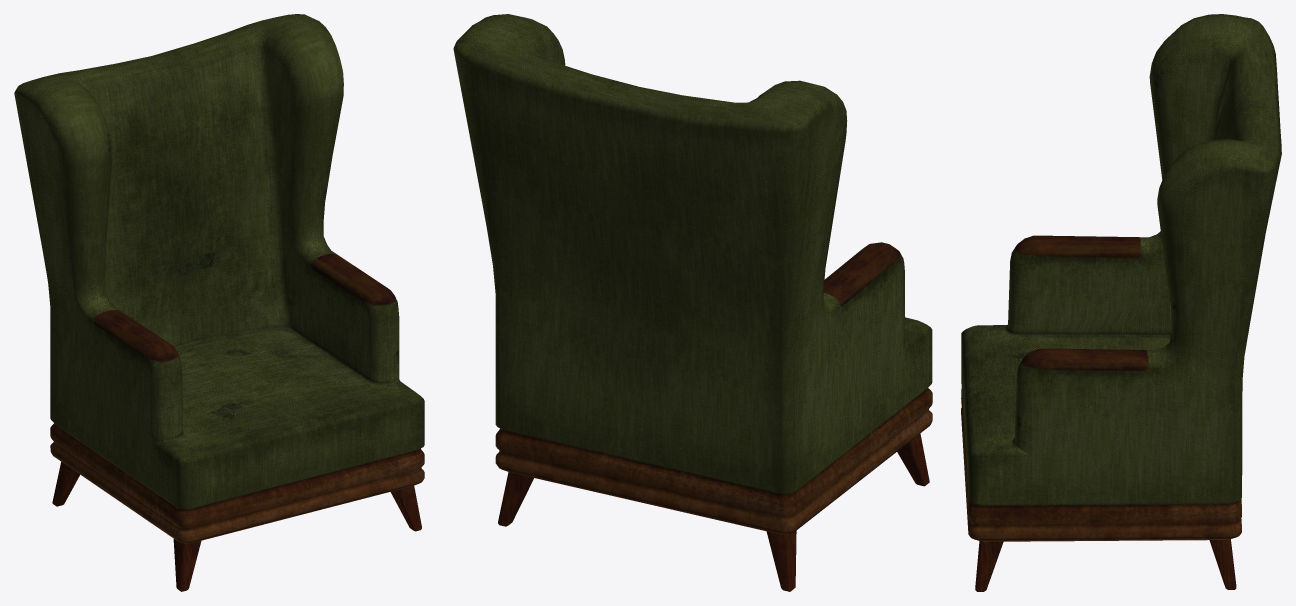
Rendered from bigchair.f7070150.glb.
3 renders of one model, left to right at view 1: azimuth 30°, elevation 25°; view 2: azimuth 150°, elevation 25°; view 3: azimuth 270°, elevation 25°, orthographic. The views are drawn at different scales.
Parts seen in each view (by area): view 1: Cube.1629; view 2: Cube.1629; view 3: Cube.1629.
Part boxes in pixels (left/top/right/bottom): Cube.1629: left=14, top=14, right=424, bottom=591; Cube.1629: left=453, top=14, right=932, bottom=591; Cube.1629: left=961, top=14, right=1281, bottom=591.
Size of the model in its own units: 0.0236 by 0.0322 by 0.0211.
1 material, 1 textured.
